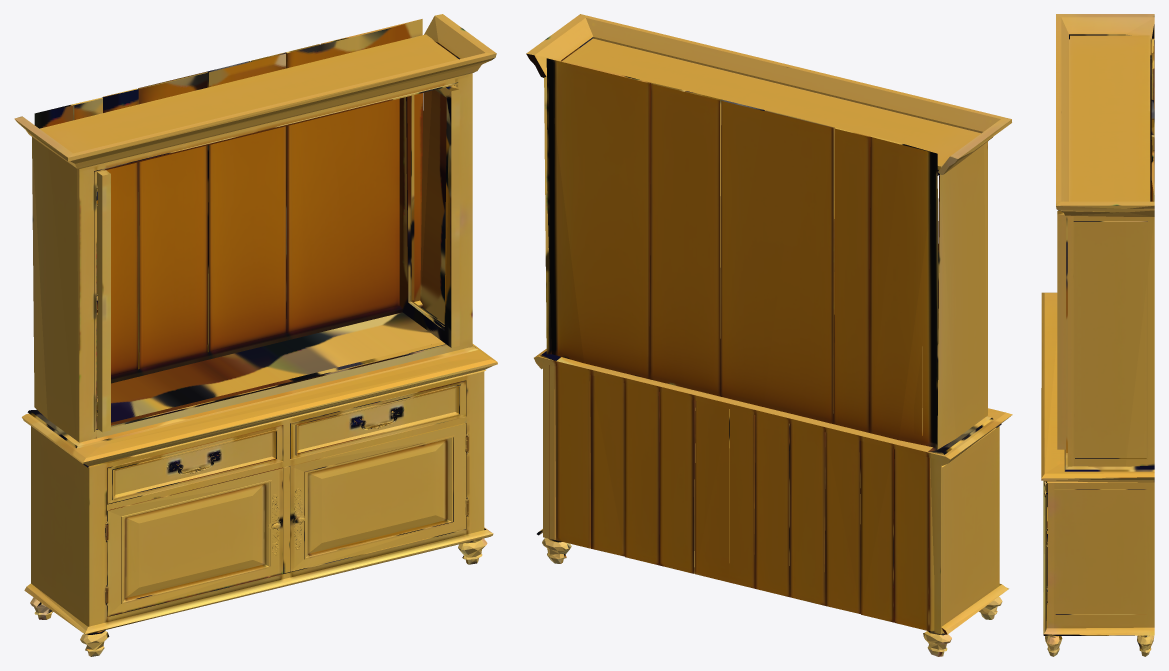
The model's file is edited_mesh.glb.
The picture shows the model from 3 angles, left to right: view 1: azimuth 30°, elevation 25°; view 2: azimuth 150°, elevation 25°; view 3: azimuth 270°, elevation 25°; orthographic projection. The views are drawn at different scales.
Visible parts, largest first — view 1: solid_001_wire; view 2: solid_001_wire; view 3: solid_001_wire.
Boxes of the visible parts, left/top/right/bottom form: solid_001_wire: left=14, top=14, right=497, bottom=656; solid_001_wire: left=526, top=14, right=1012, bottom=656; solid_001_wire: left=1041, top=14, right=1154, bottom=656.
Bounding box in the file's own units: 1.23 × 1.38 × 0.3083.
Materials: 1 (1 with a texture image).
